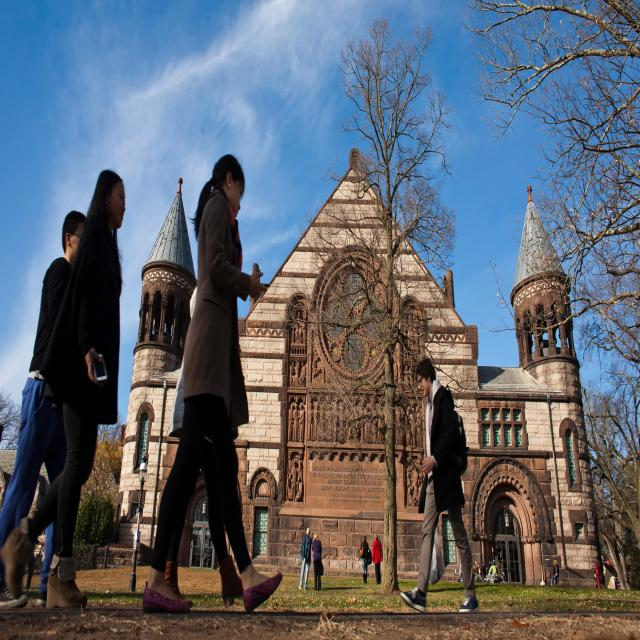body: (141, 151, 285, 618), (0, 166, 127, 611), (0, 210, 87, 610), (162, 279, 246, 613), (398, 354, 482, 616), (402, 309, 426, 511), (308, 398, 401, 447), (287, 306, 305, 502), (298, 527, 312, 592), (312, 532, 324, 592), (359, 534, 372, 585), (372, 532, 383, 585), (552, 558, 560, 586), (594, 573, 598, 588)
